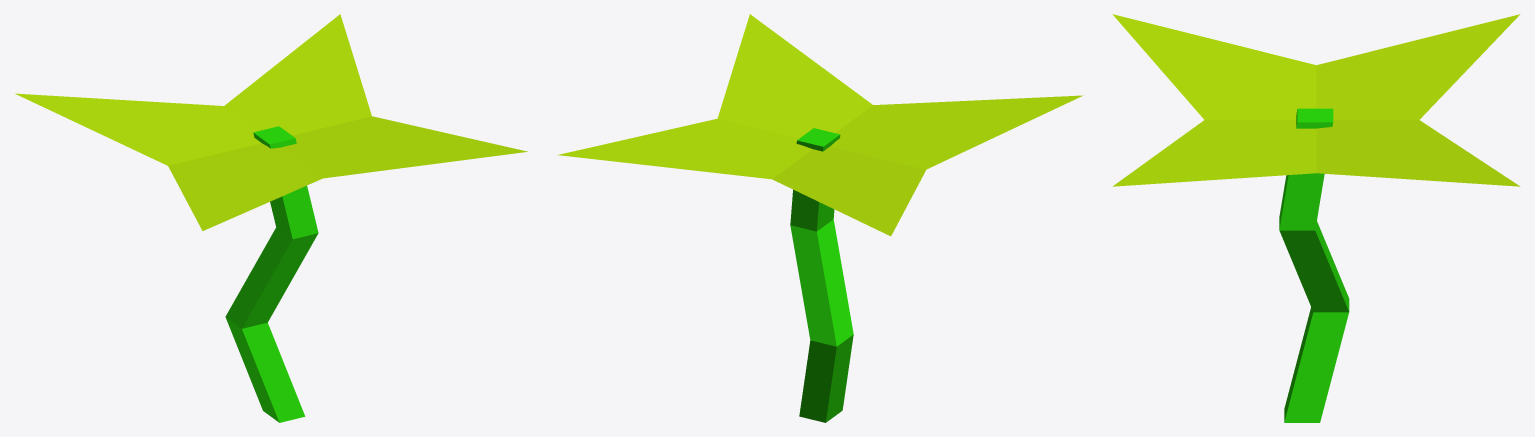
Rendered from flower.glb.
3 views of the same model, side by side, from view 1: azimuth 30°, elevation 25°; view 2: azimuth 150°, elevation 25°; view 3: azimuth 270°, elevation 25° (orthographic). The views are drawn at different scales.
Parts seen in each view (by area): view 1: Plane, Cube; view 2: Plane, Cube; view 3: Plane, Cube.
Part boxes in pixels (x1,y1,x2,y2): Plane: (15, 14, 527, 230); Cube: (225, 126, 318, 422); Plane: (558, 14, 1083, 236); Cube: (790, 128, 853, 422); Plane: (1112, 14, 1520, 186); Cube: (1279, 108, 1349, 422).
Size of the model in its own units: 2 by 1.69 by 2.
